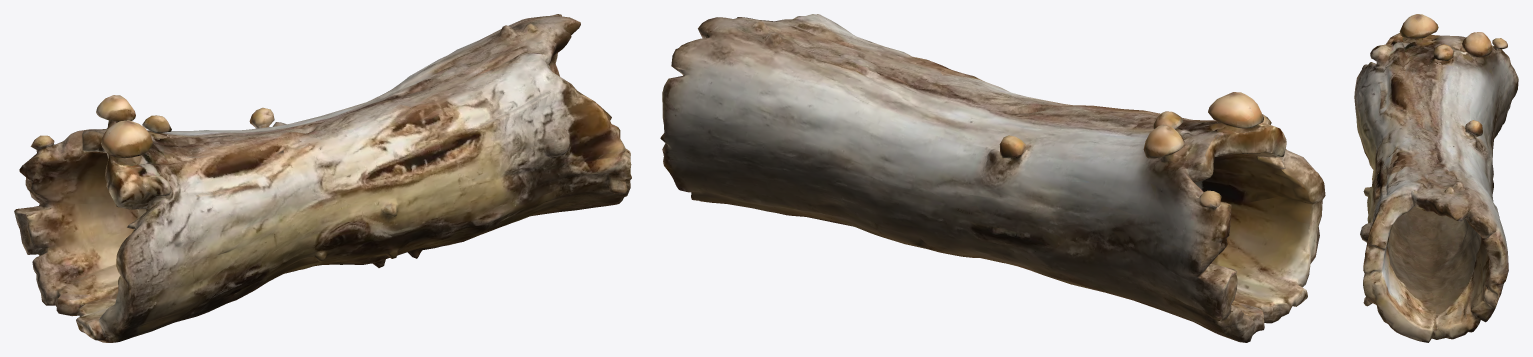
Rendered from fallenlog_decay.glb.
The picture shows the model from 3 angles, left to right: view 1: azimuth 30°, elevation 25°; view 2: azimuth 150°, elevation 25°; view 3: azimuth 270°, elevation 25°; orthographic projection. The views are drawn at different scales.
Parts seen in each view (by area): view 1: fallenlog_decay_00; view 2: fallenlog_decay_00; view 3: fallenlog_decay_00.
Part boxes in pixels (bbox=[...]): fallenlog_decay_00: bbox=[14, 14, 631, 342]; fallenlog_decay_00: bbox=[660, 14, 1325, 342]; fallenlog_decay_00: bbox=[1354, 14, 1518, 342].
Bounding box in the file's own units: 1.99 × 0.7266 × 0.6981.
Materials: 1 (1 with a texture image).
